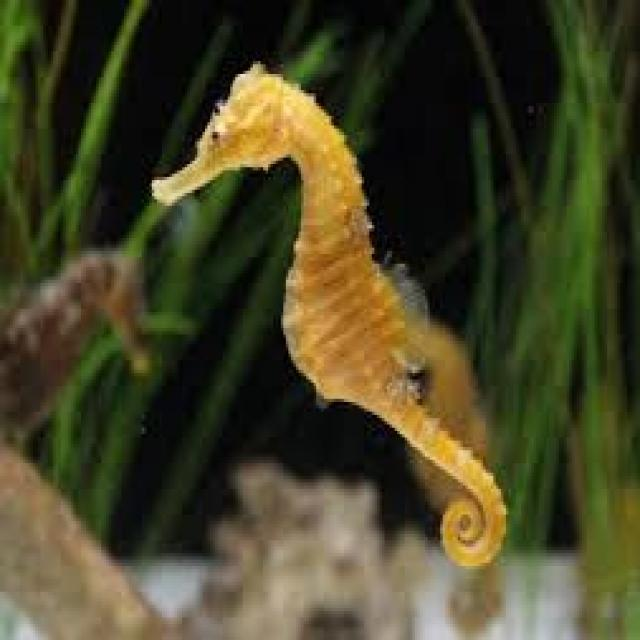SeaHorse: (150, 65, 508, 572)
